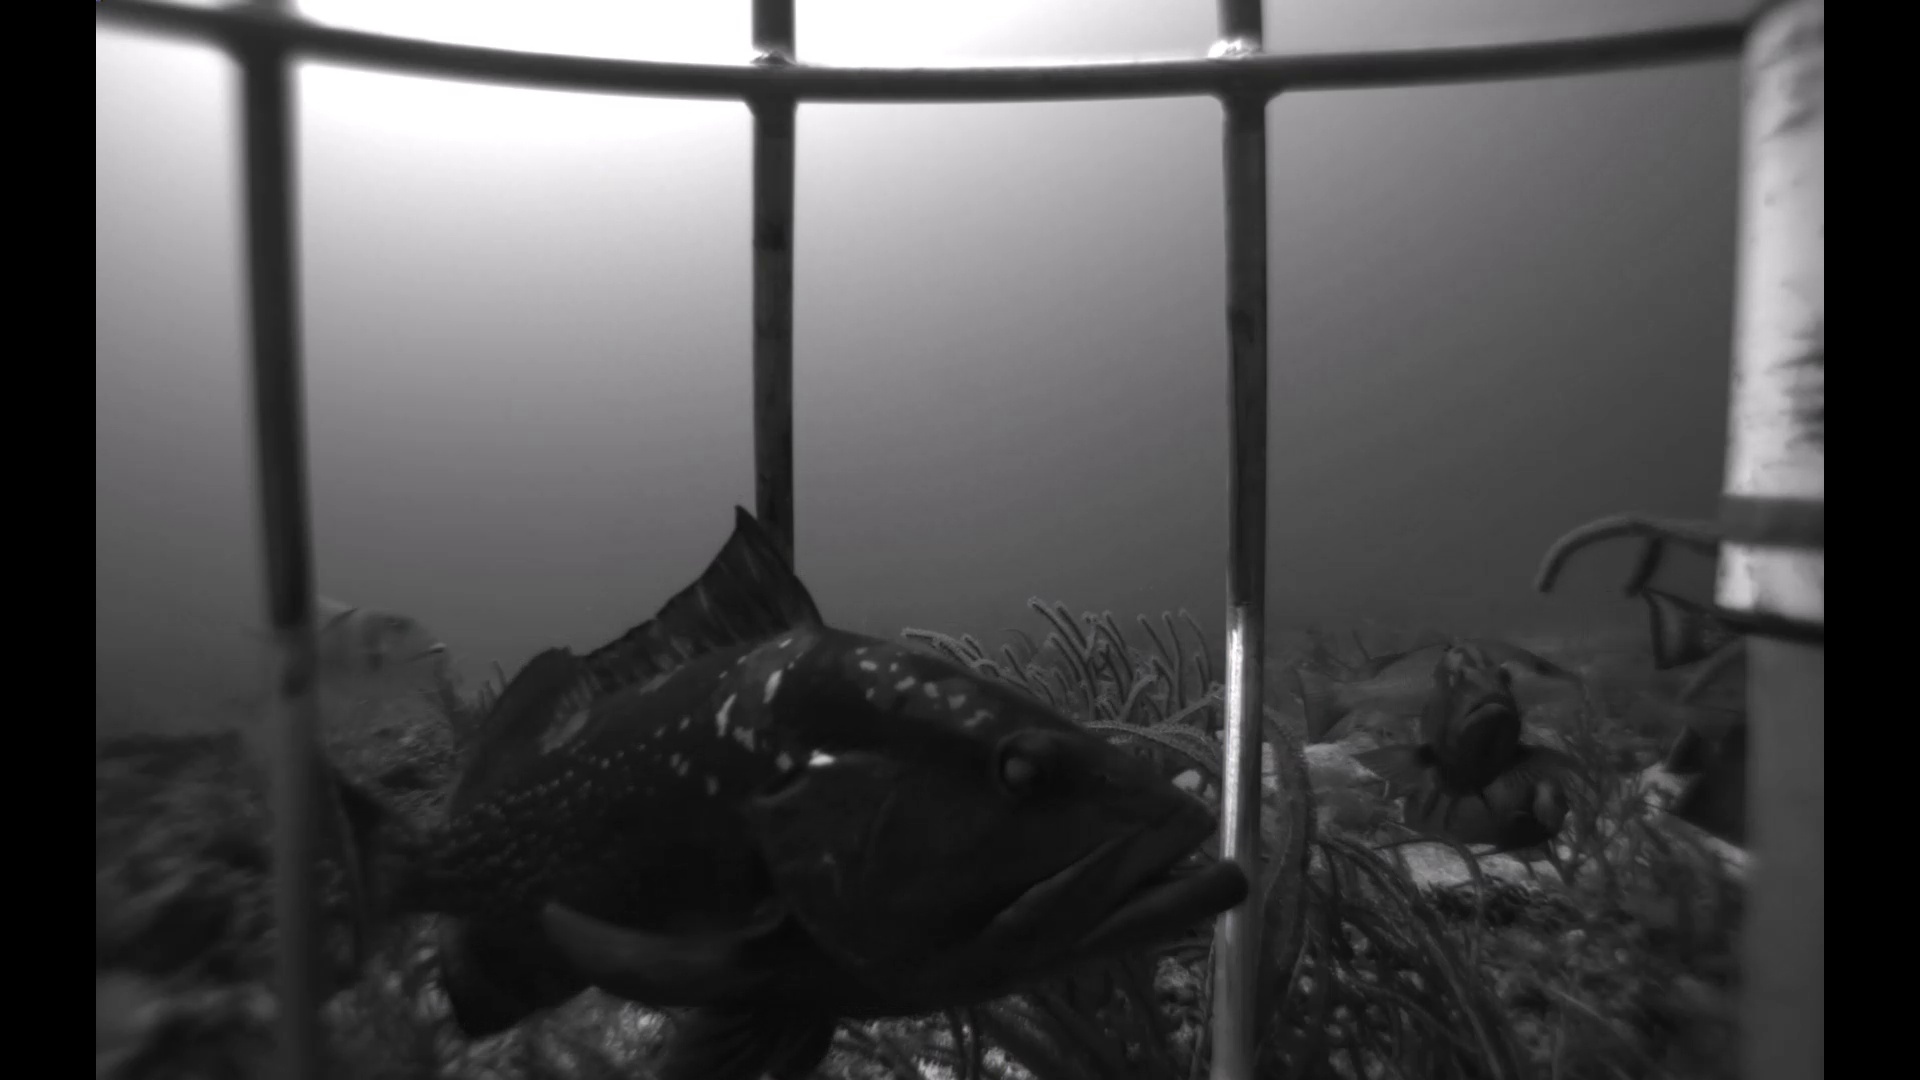BALISTESCAPRISCUS-189030502: (229, 588, 462, 724)
EPINEPHELUSMORIO-170021211: (306, 487, 1240, 1080), (1348, 632, 1586, 822), (1627, 568, 1743, 674)
LACHNOLAIMUSMAXIMUS-170281801: (1160, 765, 1222, 829)
LUTJANUSGRISEUS-170151109: (1276, 615, 1596, 745)
POMACANTHUSARCUATUS-170290201: (1385, 738, 1580, 860), (1646, 704, 1749, 855)
